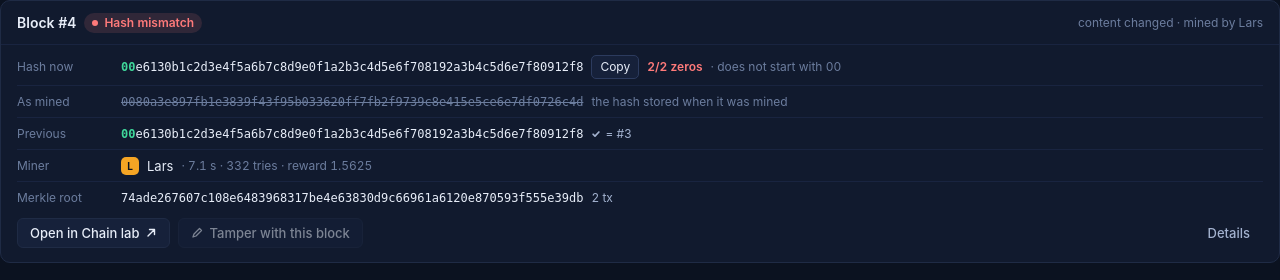
Test: SelectedBlockCard › copies the full recomputed hash of a tampered block
The image size is (1280, 280).
Click the button with aria-label "Copy hash" at (615, 67), box [591, 55, 639, 79]
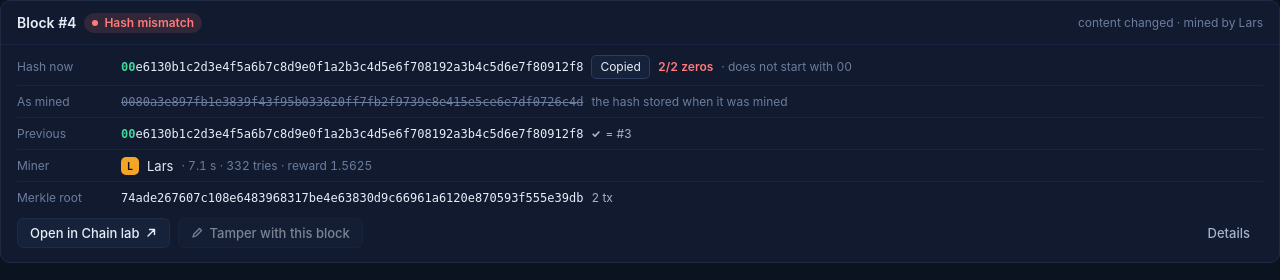
expect the button with aria-label "hash copied" is shown: met, box [591, 55, 650, 79]
